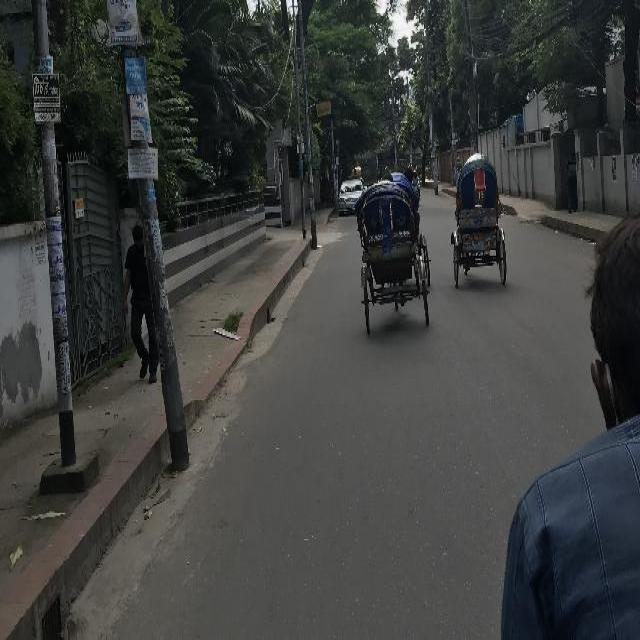bike: (414, 182, 422, 197)
vehicle: (358, 183, 431, 336), (452, 152, 509, 288), (394, 174, 434, 289), (338, 181, 364, 214), (349, 168, 363, 179), (409, 162, 418, 172)
